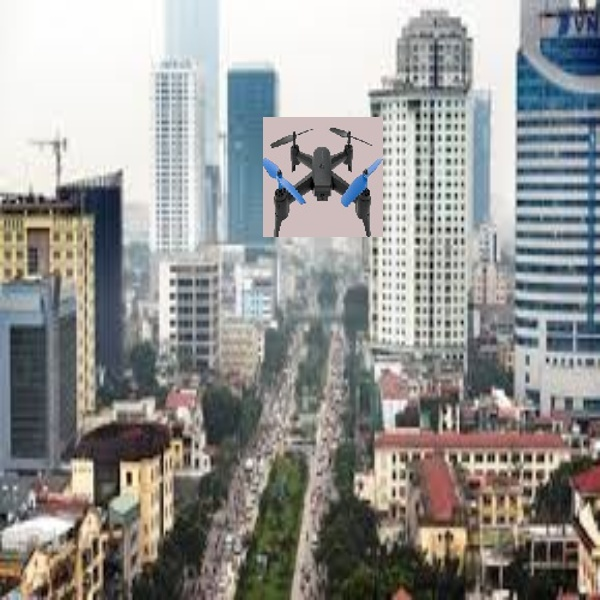drone: (259, 116, 386, 240)
